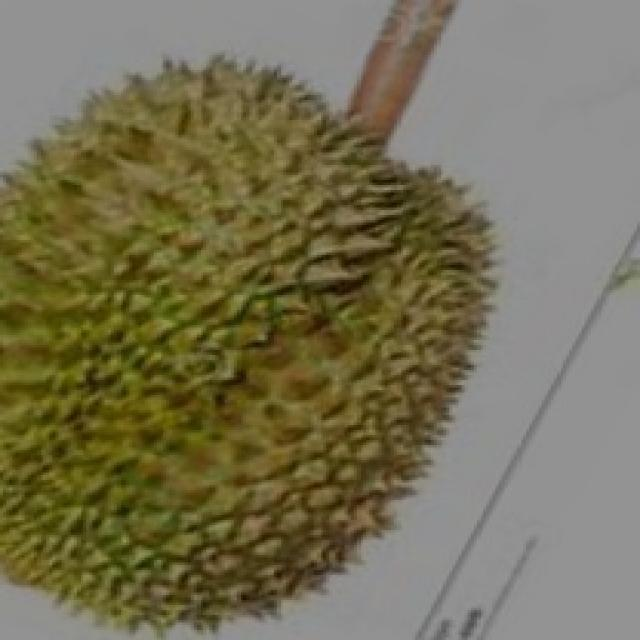fruit: (0, 7, 335, 417), (3, 277, 381, 640)
